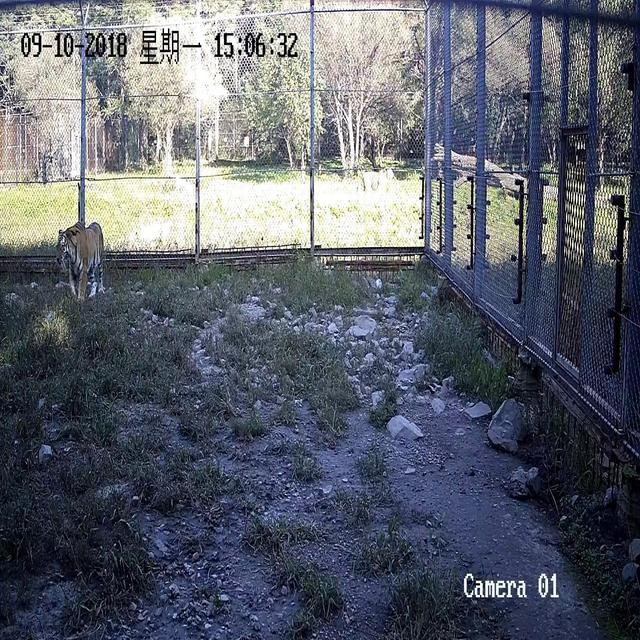tiger: (55, 220, 104, 300)
